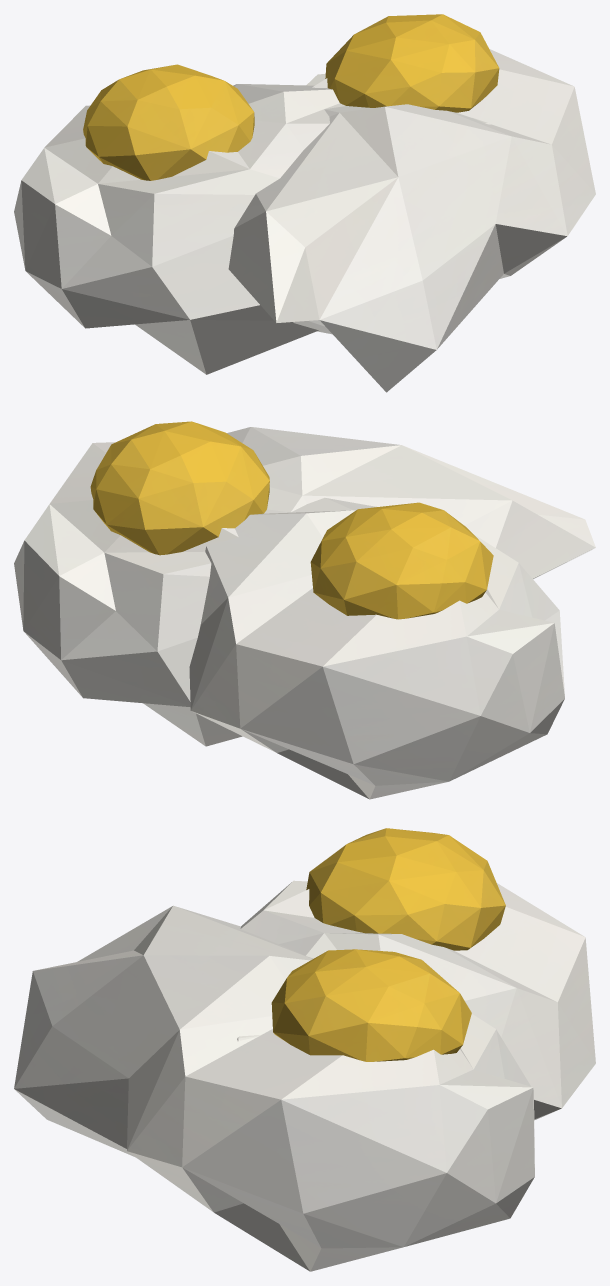
The model's file is CrackingEggs-3.obj.
3 views of the same model, one above another, from view 1: azimuth 30°, elevation 25°; view 2: azimuth 150°, elevation 25°; view 3: azimuth 270°, elevation 25° (orthographic). The views are drawn at different scales.
Parts seen in each view (by area): view 1: Sphere.005; view 2: Sphere.005; view 3: Sphere.005.
Boxes of the visible parts, x1,y1,x2,y2 form: Sphere.005: (14,14,595,392); Sphere.005: (14,421,595,799); Sphere.005: (14,828,595,1271).
Size of the model in its own units: 0.0989 by 0.051 by 0.0878.
